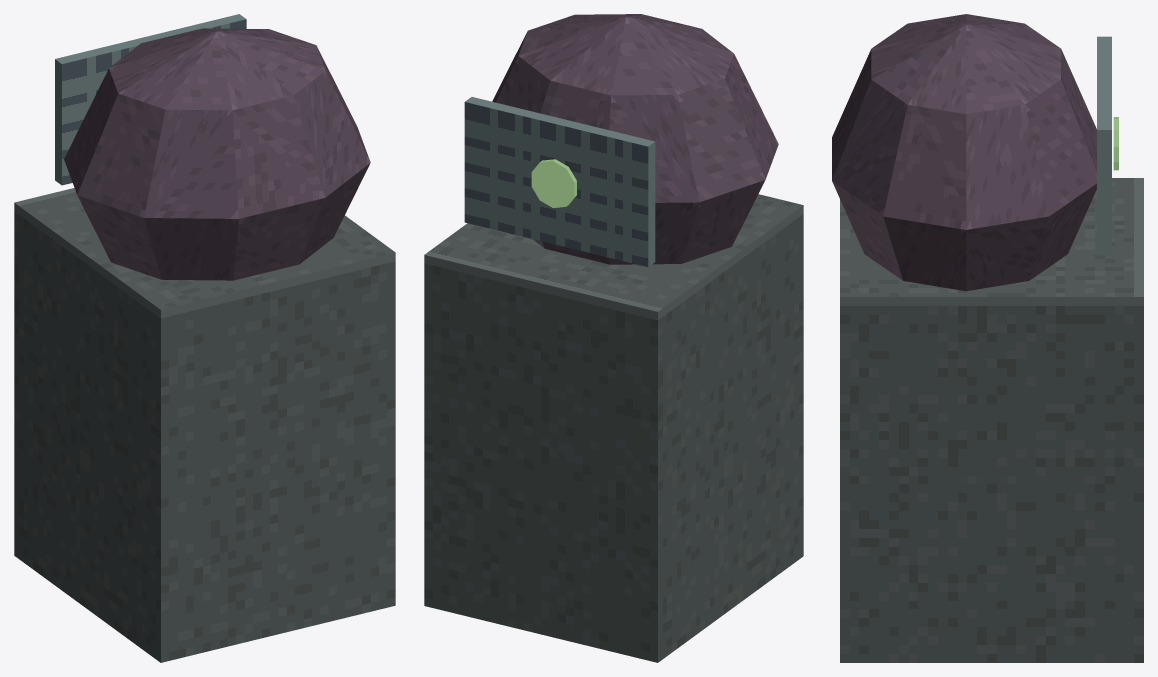
The model's file is f_string_dimension_distress_beacon_1.glb.
The picture shows the model from 3 angles, left to right: view 1: azimuth 30°, elevation 25°; view 2: azimuth 150°, elevation 25°; view 3: azimuth 270°, elevation 25°; orthographic projection. The views are drawn at different scales.
Parts seen in each view (by area): view 1: block_distress-beacon-pedestal, block_bulbous-monitor-shell, block_garbled-monitor-display; view 2: block_distress-beacon-pedestal, block_bulbous-monitor-shell, block_garbled-monitor-display, block_glowing-circle; view 3: block_distress-beacon-pedestal, block_bulbous-monitor-shell, block_garbled-monitor-display.
Boxes of the visible parts, box(x1,y1,x2,y2) form: block_distress-beacon-pedestal: box(14, 188, 395, 662); block_bulbous-monitor-shell: box(64, 28, 370, 280); block_garbled-monitor-display: box(55, 14, 246, 185); block_distress-beacon-pedestal: box(424, 194, 803, 662); block_bulbous-monitor-shell: box(492, 14, 778, 264); block_garbled-monitor-display: box(464, 97, 655, 266); block_glowing-circle: box(531, 159, 576, 207); block_distress-beacon-pedestal: box(840, 178, 1143, 662); block_bulbous-monitor-shell: box(832, 14, 1096, 291); block_garbled-monitor-display: box(1097, 36, 1111, 255).
Size of the model in its own units: 0.706 by 1.34 by 0.6565.
Materials: 2 (2 with a texture image).
